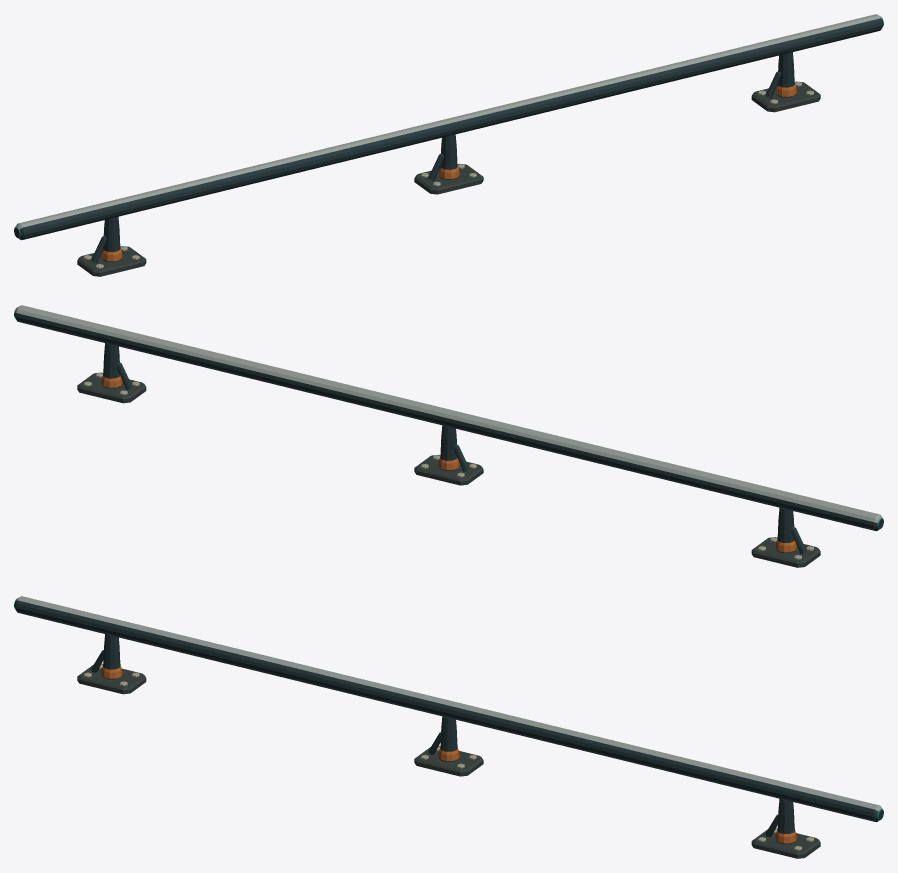
Rendered from wsc-plan-009-grind-rail-flat.glb.
3 renders of one model, top to bottom at view 1: azimuth 30°, elevation 25°; view 2: azimuth 150°, elevation 25°; view 3: azimuth 330°, elevation 25°, orthographic.
Visible parts, largest first — view 1: Continuous_grind_surface, Mounts_and_supports; view 2: Continuous_grind_surface, Mounts_and_supports; view 3: Continuous_grind_surface, Mounts_and_supports.
Part boxes in pixels (bbox=[...]): Continuous_grind_surface: bbox=[14, 14, 883, 240]; Mounts_and_supports: bbox=[77, 52, 820, 276]; Continuous_grind_surface: bbox=[14, 305, 883, 531]; Mounts_and_supports: bbox=[77, 343, 820, 567]; Continuous_grind_surface: bbox=[14, 596, 883, 822]; Mounts_and_supports: bbox=[77, 634, 820, 858].
Size of the model in its own units: 12 by 0.8224 by 0.51.
